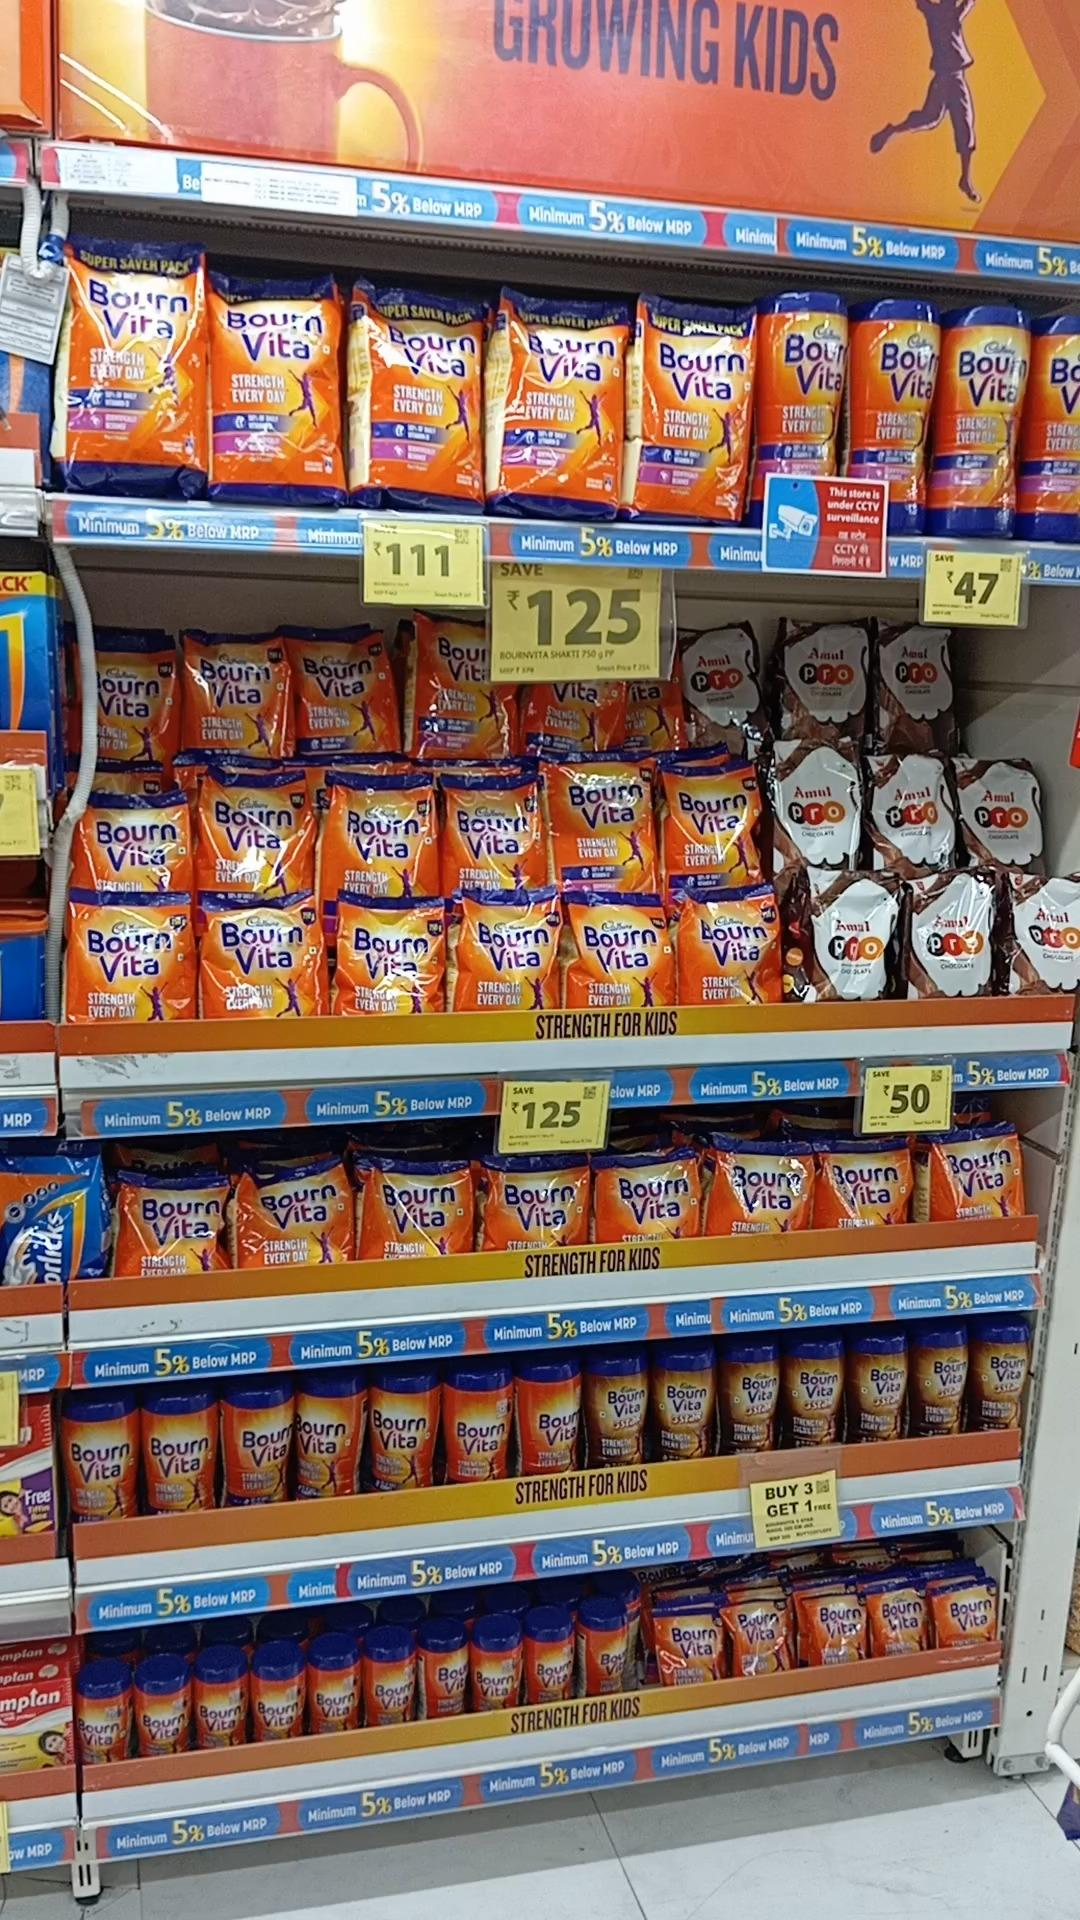BOURN_VITA_1_KG_JAR: (856, 297, 940, 529), (945, 303, 1026, 541), (762, 287, 852, 485), (1027, 305, 1080, 541)
BOURN_VITA_1_KG_POUCH: (59, 240, 210, 501), (210, 257, 344, 508), (496, 290, 621, 522), (364, 276, 483, 510), (640, 297, 753, 530)
BOURN_VITA_200_G_JAR: (191, 1660, 247, 1755), (76, 1673, 131, 1767), (360, 1647, 414, 1726), (418, 1635, 467, 1722), (527, 1619, 578, 1702), (583, 1611, 633, 1695), (138, 1667, 181, 1764), (251, 1662, 298, 1742), (309, 1650, 353, 1731), (471, 1633, 518, 1708)
BOURN_VITA_500_G_JAR: (59, 1400, 136, 1528), (144, 1394, 218, 1513), (369, 1371, 430, 1502), (224, 1389, 286, 1513), (293, 1378, 355, 1501), (520, 1362, 584, 1478), (444, 1375, 506, 1487)
BOURN_VITA_500_G_POUCH: (360, 1158, 475, 1259), (239, 1174, 349, 1265), (123, 1183, 223, 1276), (484, 1156, 588, 1246), (711, 1135, 806, 1233), (599, 1160, 700, 1244), (820, 1143, 909, 1229), (942, 1129, 1025, 1217)
BOURN_VITA_750_G_POUCH: (65, 891, 190, 1021), (202, 894, 322, 1017), (417, 615, 514, 760), (551, 750, 651, 889), (327, 777, 443, 894), (334, 895, 447, 1014), (199, 771, 309, 893), (185, 626, 287, 753), (294, 629, 392, 756), (460, 891, 560, 1010), (669, 762, 767, 880), (572, 890, 673, 1005), (680, 887, 777, 1006), (91, 637, 175, 767), (73, 787, 178, 887), (447, 779, 542, 889)
BOURN_VITA_75_G_POUCH: (655, 1605, 723, 1689), (732, 1601, 790, 1679), (810, 1592, 865, 1668), (938, 1582, 1000, 1646), (868, 1585, 922, 1658)
BOURN_VITA_FIVE_STAR_MAGIC_500_G_JAR: (655, 1342, 717, 1464), (588, 1348, 647, 1469), (721, 1336, 781, 1453), (849, 1333, 906, 1447), (976, 1320, 1031, 1433), (913, 1325, 967, 1439), (793, 1341, 844, 1448)
HORLICK_CLASSIC_MALT_750_G_POUCH: (0, 1147, 103, 1296)
